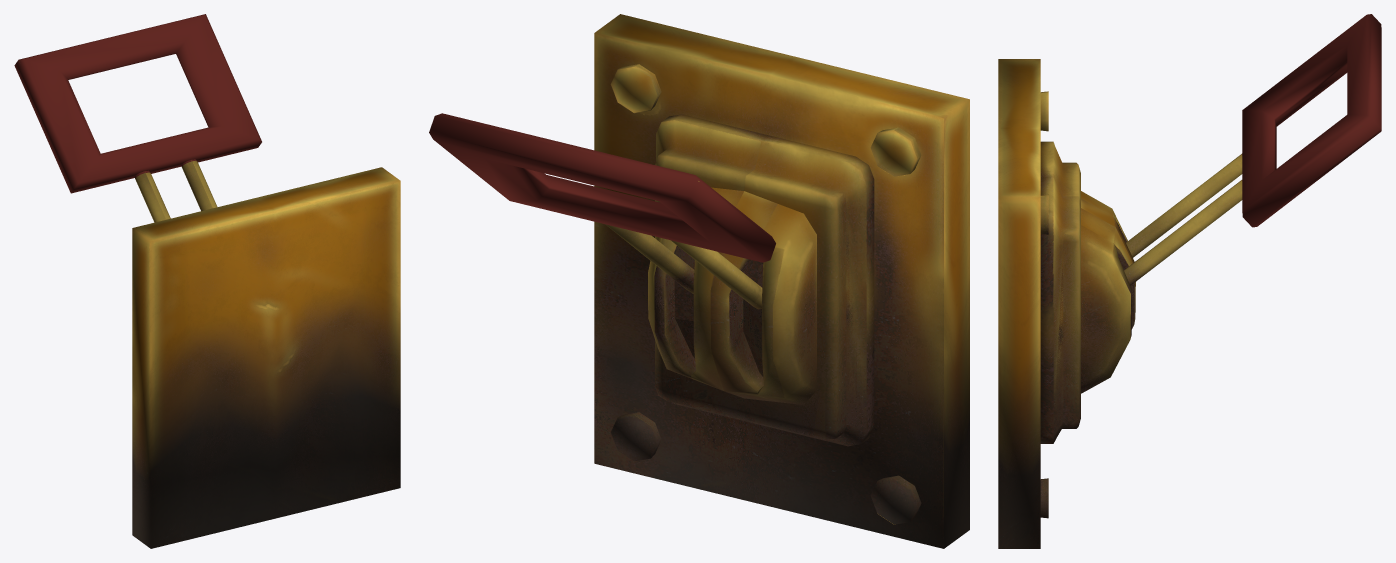
File: Lever_With_Animations.fbx
The picture shows the model from 3 angles, left to right: view 1: azimuth 30°, elevation 25°; view 2: azimuth 150°, elevation 25°; view 3: azimuth 270°, elevation 25°; orthographic projection. The views are drawn at different scales.
Parts seen in each view (by area): view 1: LeverBase, Lever; view 2: LeverBase, Lever; view 3: LeverBase, Lever.
Boxes of the visible parts, bbox=[...] form: LeverBase: bbox=[132, 167, 400, 548]; Lever: bbox=[14, 14, 261, 222]; LeverBase: bbox=[594, 14, 969, 548]; Lever: bbox=[429, 113, 775, 309]; LeverBase: bbox=[998, 59, 1135, 548]; Lever: bbox=[1124, 14, 1381, 285].
Size of the model in its own units: 86.83 by 121 by 101.
